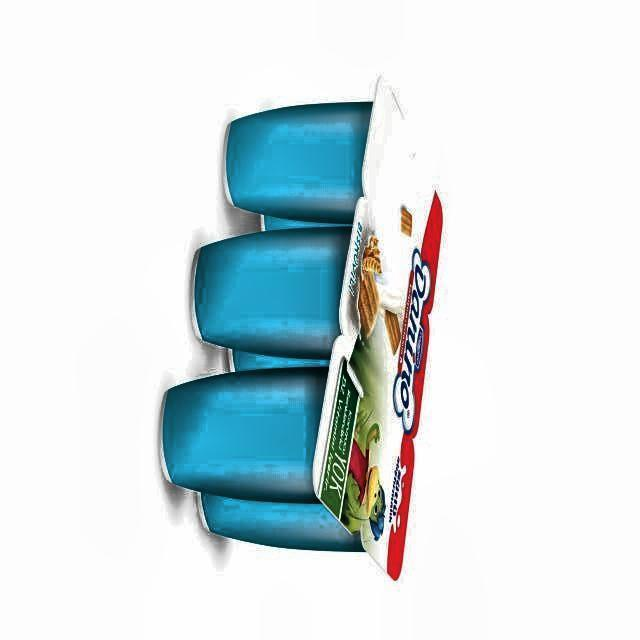plastic: (163, 78, 444, 579), (163, 368, 325, 500), (194, 228, 350, 358), (226, 103, 371, 221)
